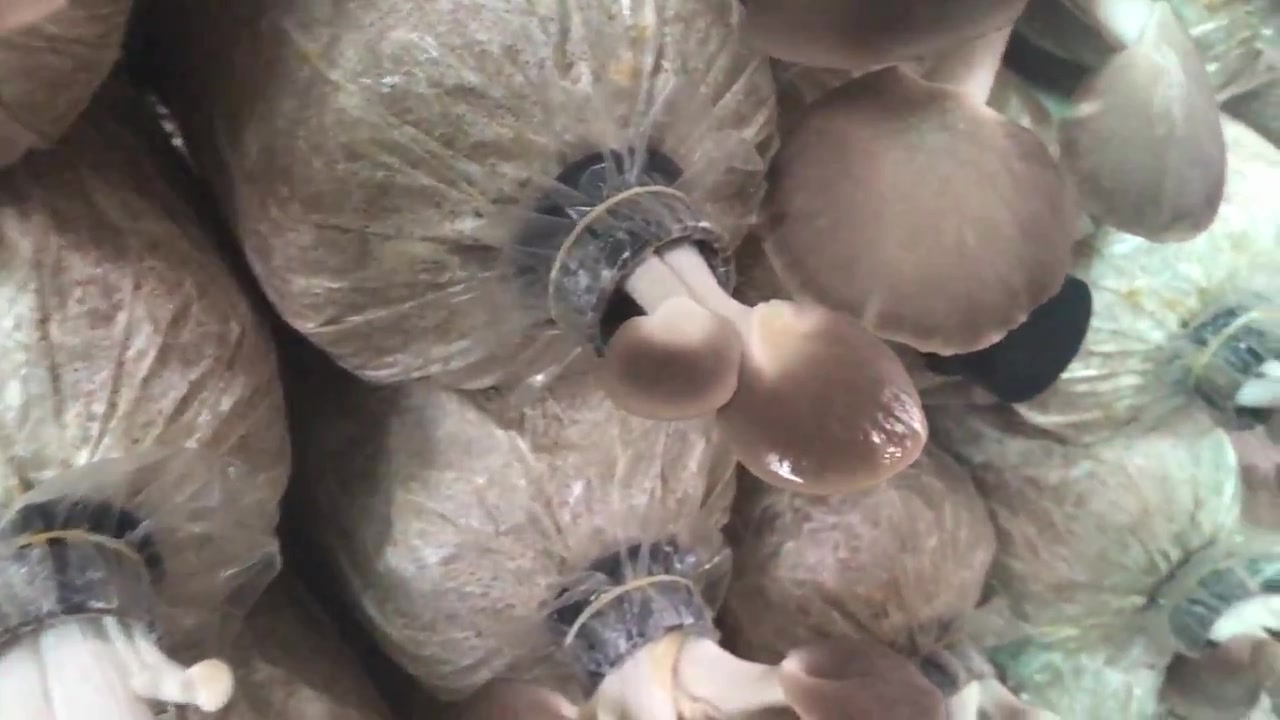nam: (746, 1, 1224, 363), (561, 191, 931, 506)
